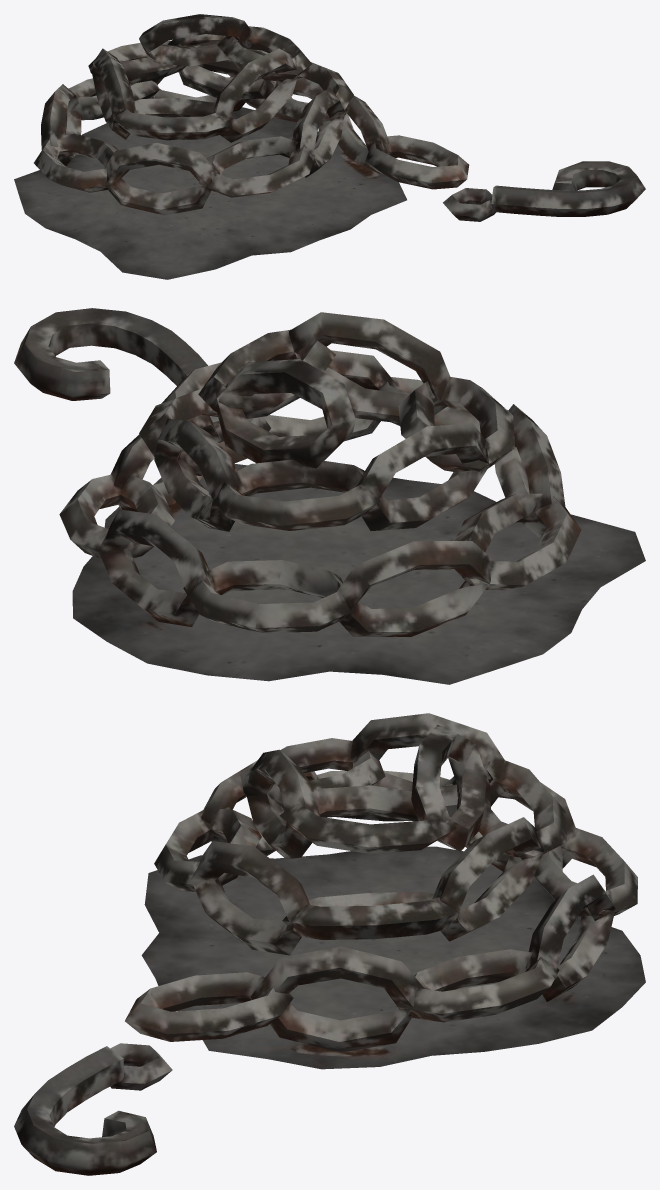
The model's file is foundry_chains.glb.
3 renders of one model, top to bottom at view 1: azimuth 30°, elevation 25°; view 2: azimuth 150°, elevation 25°; view 3: azimuth 270°, elevation 25°, orthographic. The views are drawn at different scales.
Visible parts, largest first — view 1: foundry_chains; view 2: foundry_chains; view 3: foundry_chains.
Boxes of the visible parts, <box> form: foundry_chains: <box>14,14,645,279</box>; foundry_chains: <box>14,308,645,684</box>; foundry_chains: <box>14,713,645,1175</box>.
Size of the model in its own units: 2.38 by 0.7856 by 1.92.
Materials: 1 (1 with a texture image).
